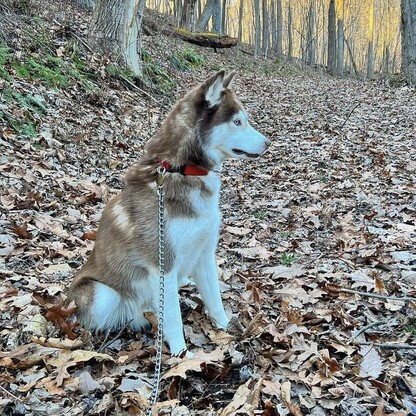husky: (64, 60, 273, 361)
